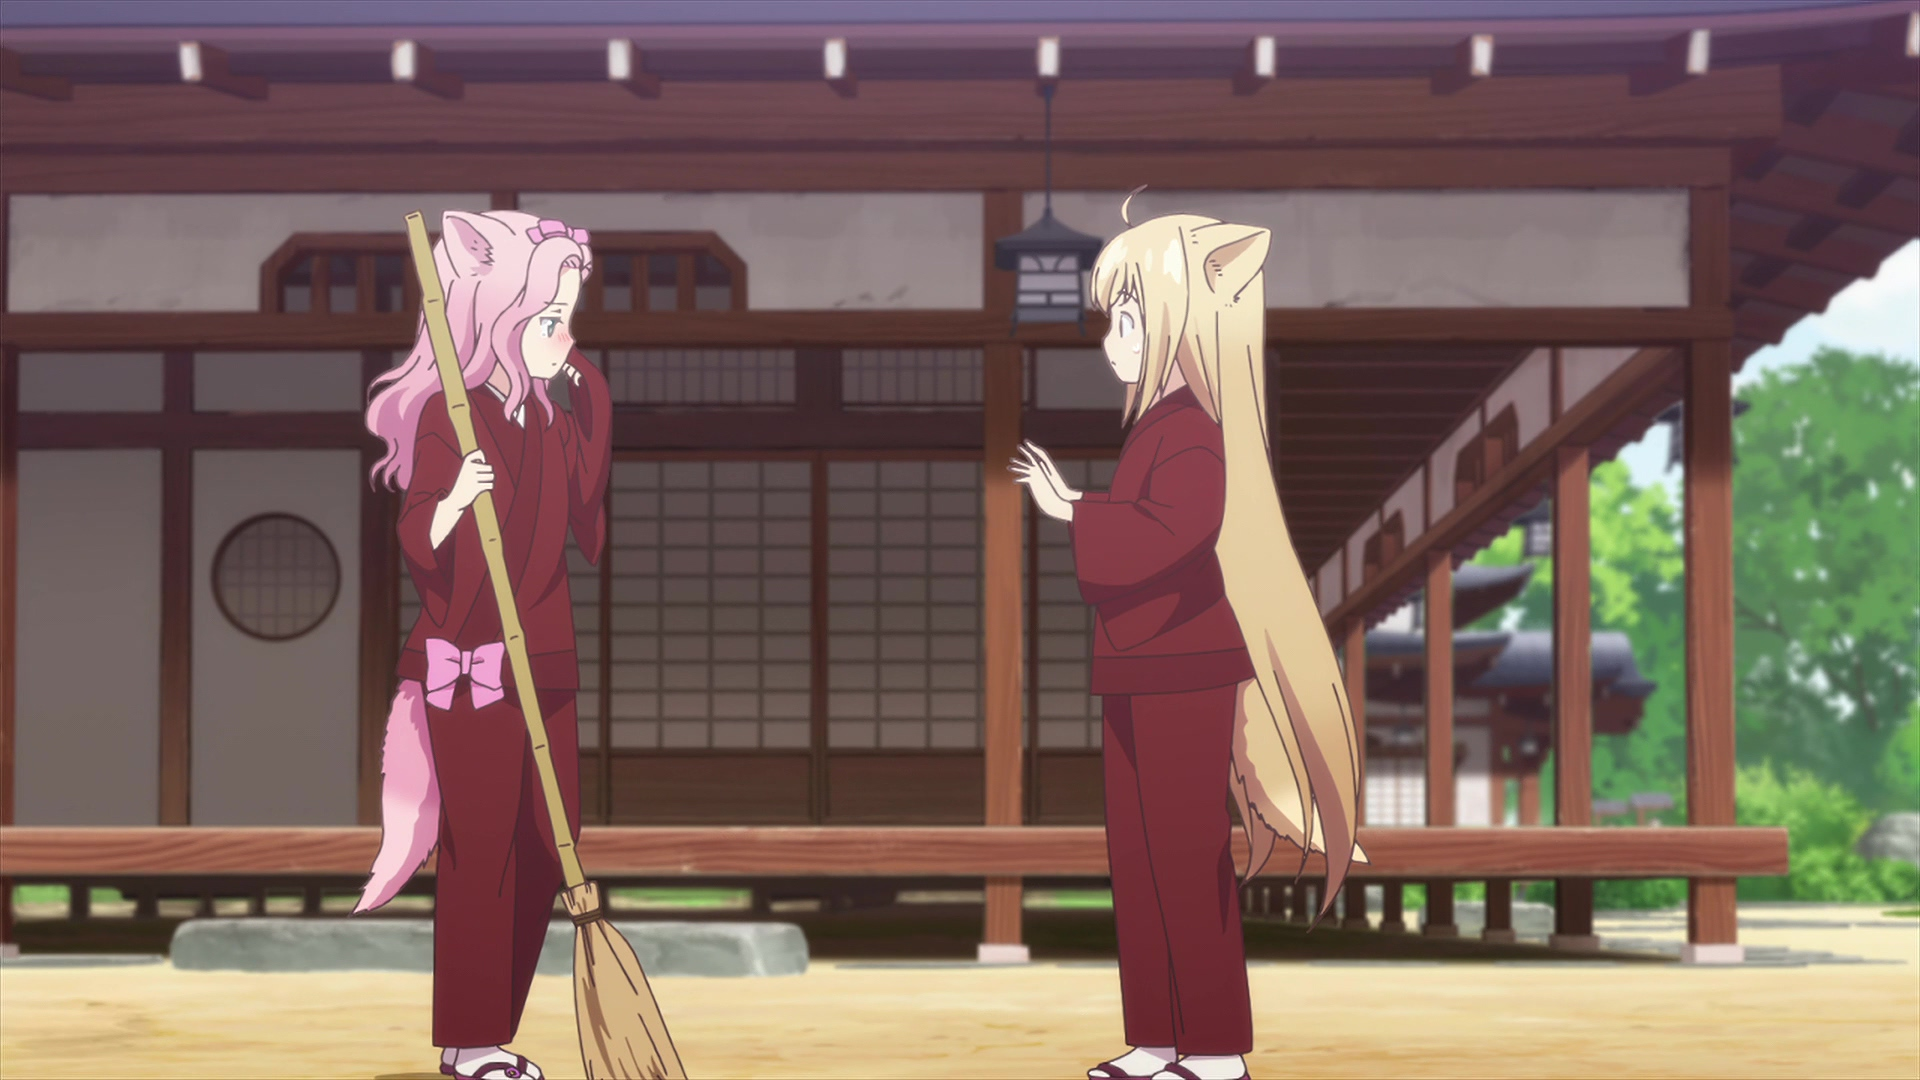柚: (1006, 185, 1367, 1080)
莲: (349, 211, 609, 1080)
